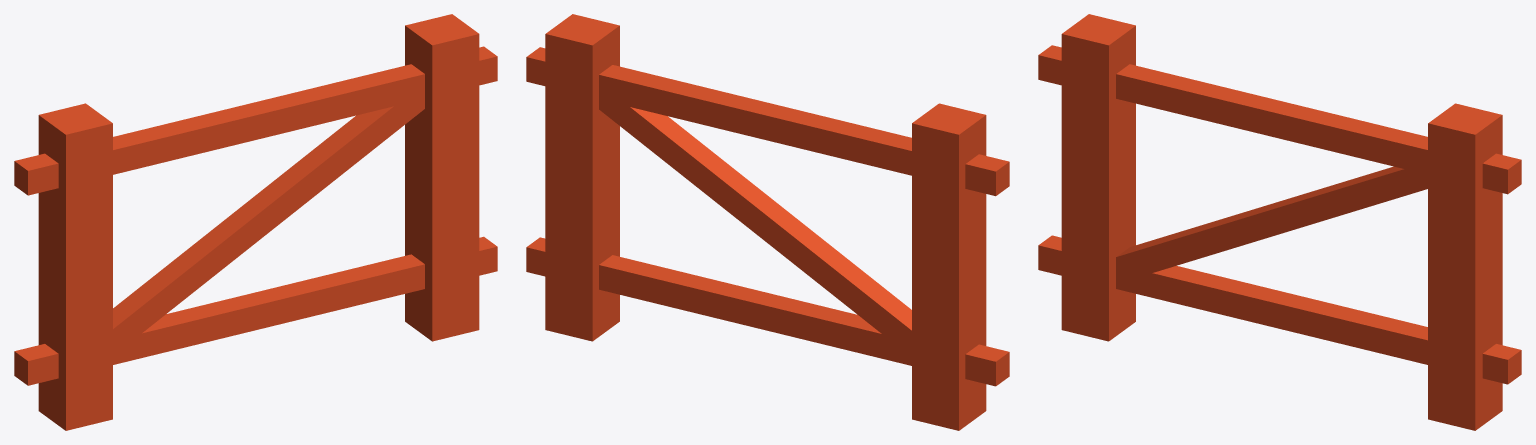
The model's file is Fence2.fbx.
The picture shows the model from 3 angles, left to right: view 1: azimuth 30°, elevation 25°; view 2: azimuth 150°, elevation 25°; view 3: azimuth 330°, elevation 25°; orthographic projection.
Parts seen in each view (by area): view 1: Fence3; view 2: Fence3; view 3: Fence3.
Boxes of the visible parts, x1,y1,x2,y2 form: Fence3: (14, 14, 497, 430); Fence3: (526, 14, 1009, 430); Fence3: (1038, 14, 1521, 430).
Bounding box in the file's own units: 3982 × 2400 × 400.
